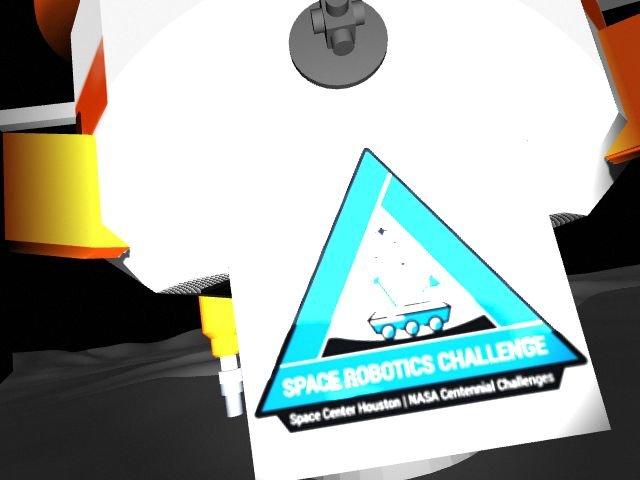basemarker: (252, 146, 589, 435)
